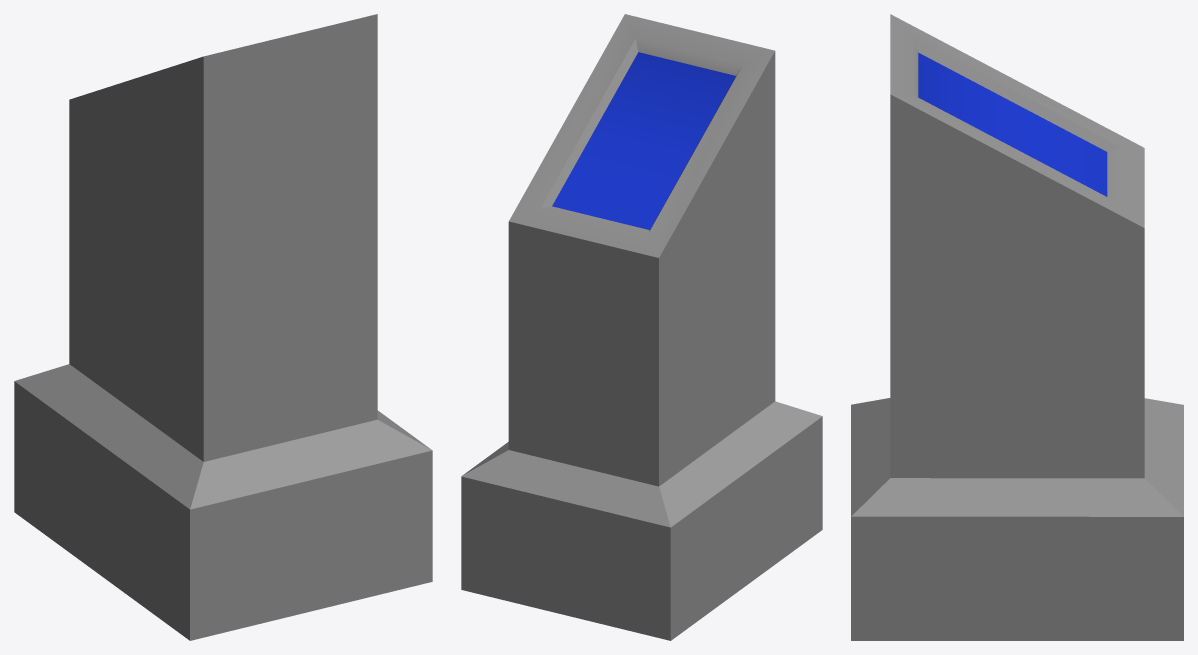
Rendered from ST_Props_Panel_A.FBX.
3 views of the same model, side by side, from view 1: azimuth 30°, elevation 25°; view 2: azimuth 150°, elevation 25°; view 3: azimuth 270°, elevation 25° (orthographic). The views are drawn at different scales.
Visible parts, largest first — view 1: ST_Props_Panel_A; view 2: ST_Props_Panel_A; view 3: ST_Props_Panel_A.
Part boxes in pixels (x1,y1,x2,y2): ST_Props_Panel_A: (14, 14, 432, 640); ST_Props_Panel_A: (461, 14, 822, 640); ST_Props_Panel_A: (851, 14, 1183, 640).
Size of the model in its own units: 72.7 by 161 by 91.29.
